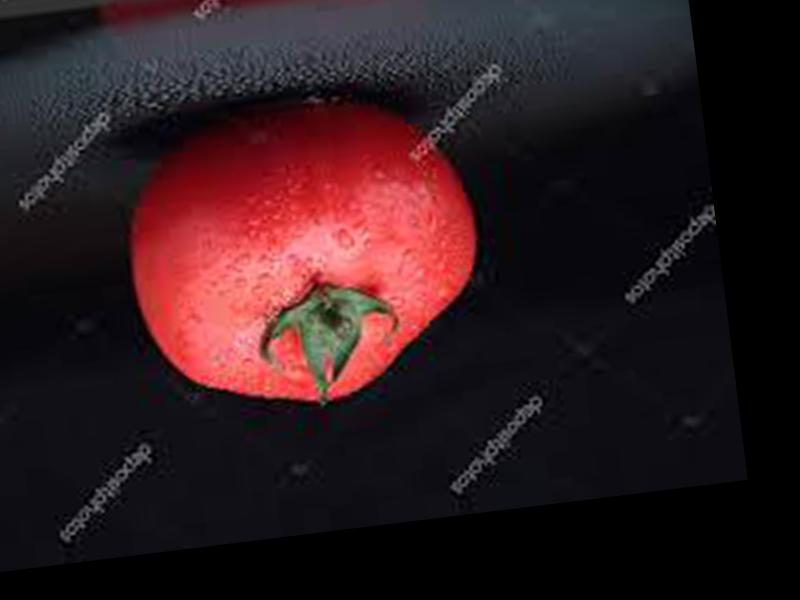Tomato: (112, 83, 495, 425)
